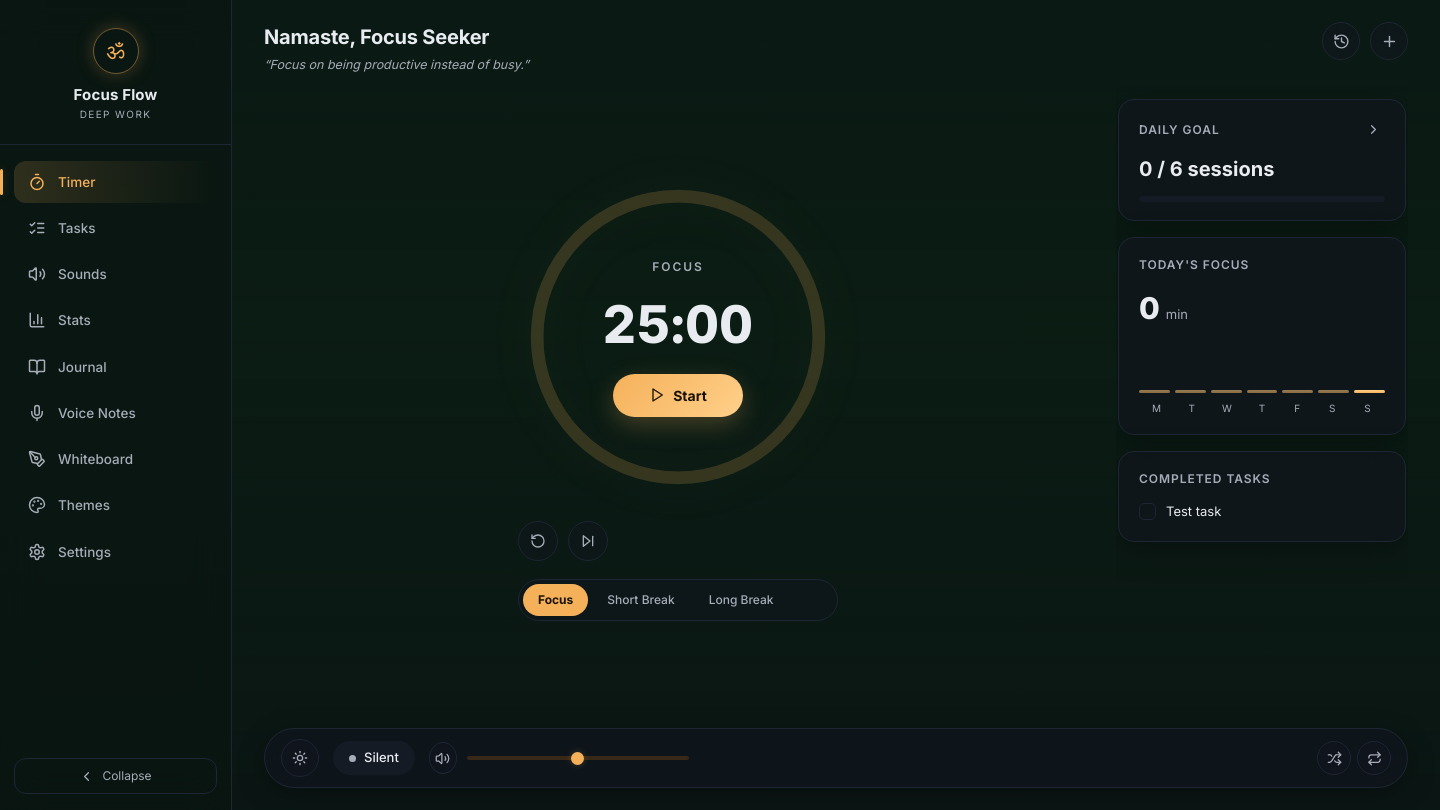
it: FocusFlow Home Page › switches to the Journal view
Click the button "Journal" at (116, 367), box x1=14 y1=346 x2=217 y2=388
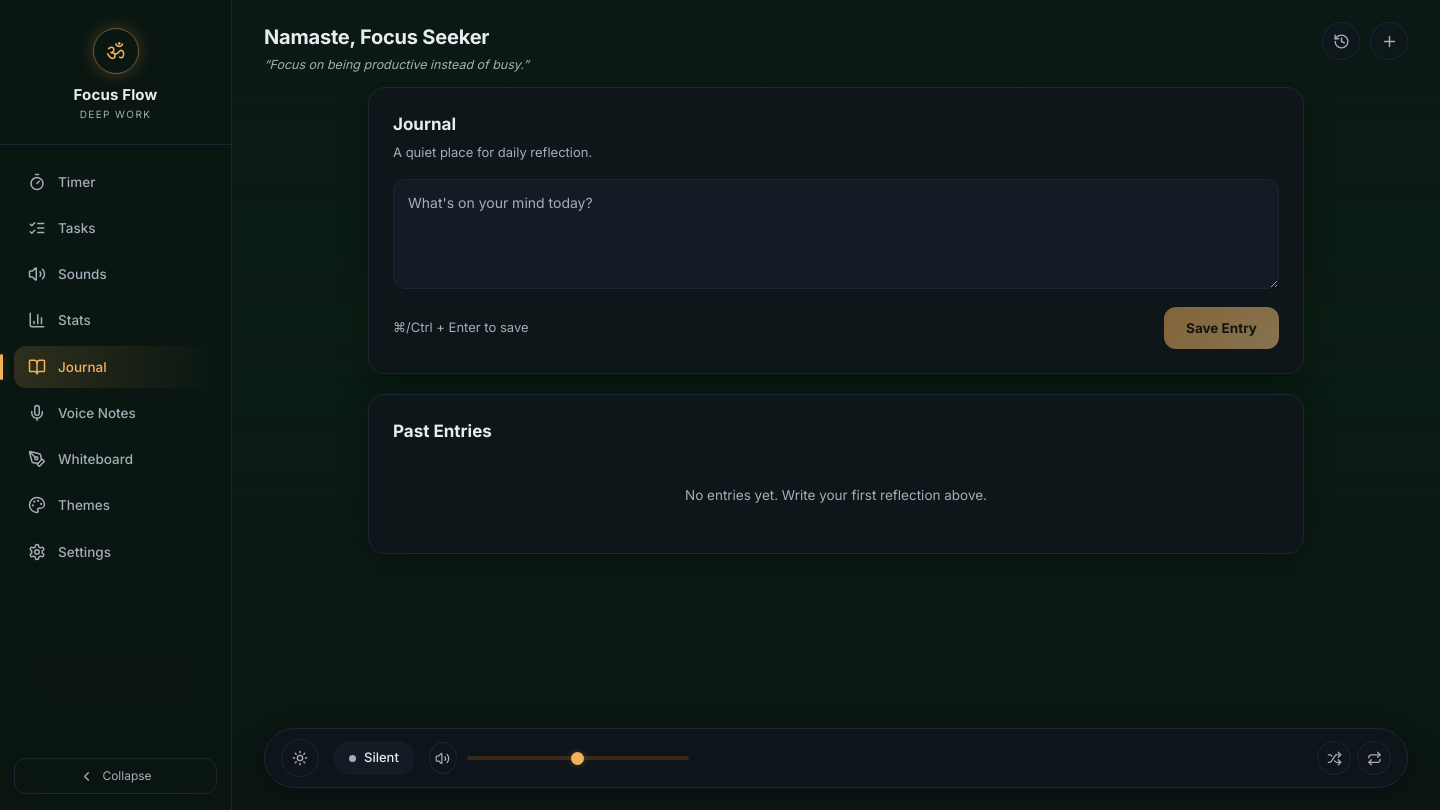
Check: the heading "Past Entries" is shown, box x1=393 y1=421 x2=492 y2=441
